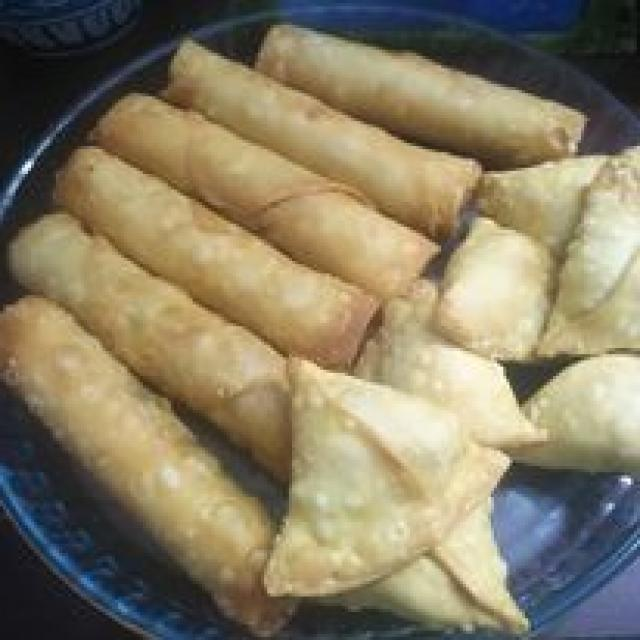Samosa: (287, 116, 640, 614)
Spring Rolls: (3, 22, 373, 637)
